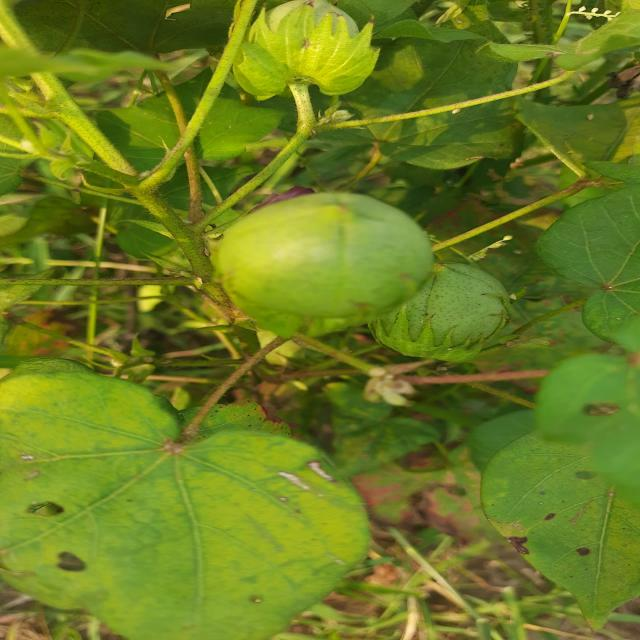Early Boll: (215, 190, 434, 326), (241, 0, 386, 97), (382, 261, 512, 359)
